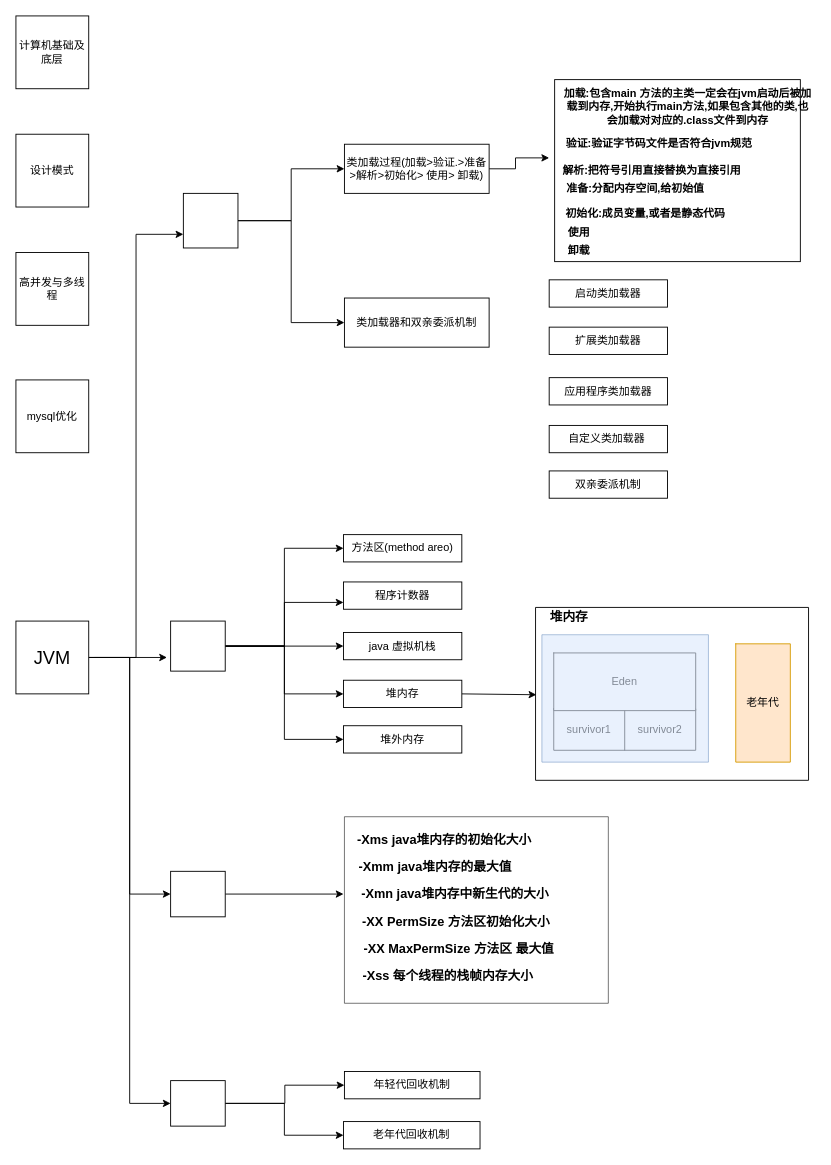
The diagram is 831 pixels wide and 1165 high, and some of its shapes have lost their labels. Each missing label, with the box of its shape:
内存模型: (170, 620, 225, 671)
垃圾回收机制: (170, 1080, 225, 1126)
新生代: (541, 634, 708, 762)
核心参数: (170, 870, 225, 917)
类加载机制: (182, 192, 238, 248)
